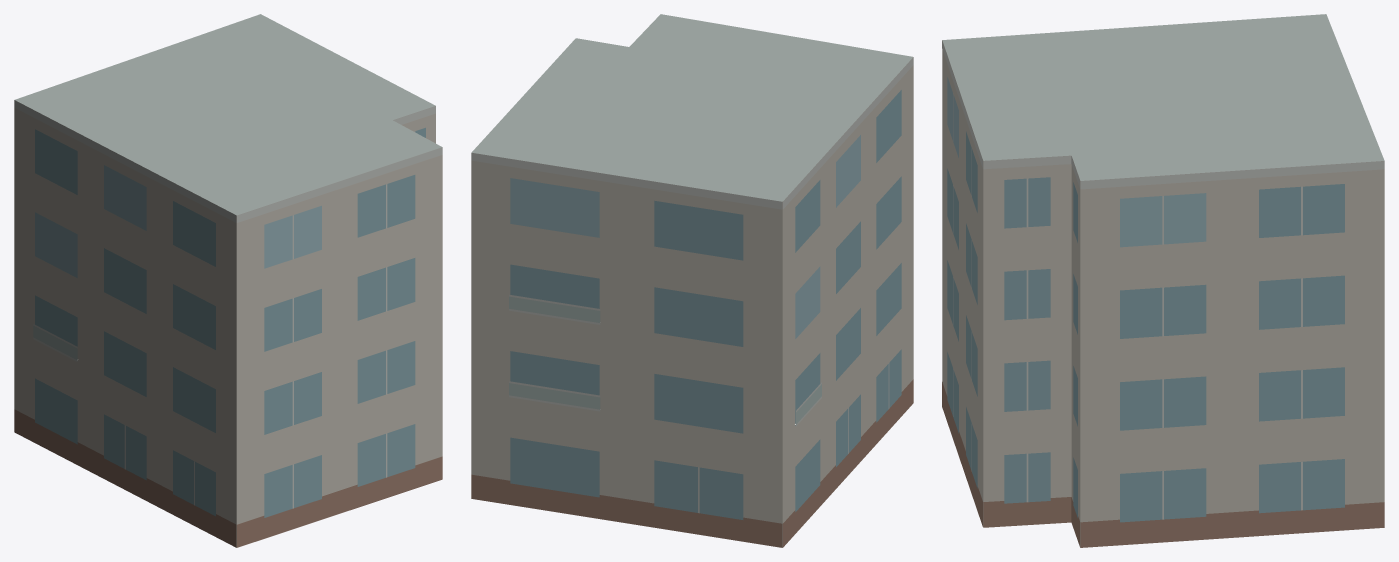
The model's file is survey-upis-32701486.glb.
The picture shows the model from 3 angles, left to right: view 1: azimuth 30°, elevation 25°; view 2: azimuth 150°, elevation 25°; view 3: azimuth 270°, elevation 25°; orthographic projection. The views are drawn at different scales.
Parts seen in each view (by area): view 1: survey-upis-32701486.tmp; view 2: survey-upis-32701486.tmp; view 3: survey-upis-32701486.tmp.
Part boxes in pixels (<box>): survey-upis-32701486.tmp: <box>14,14,442,547</box>; survey-upis-32701486.tmp: <box>471,14,913,547</box>; survey-upis-32701486.tmp: <box>942,14,1384,547</box>.
Bounding box in the file's own units: 10.36 × 10.6 × 11.6.
